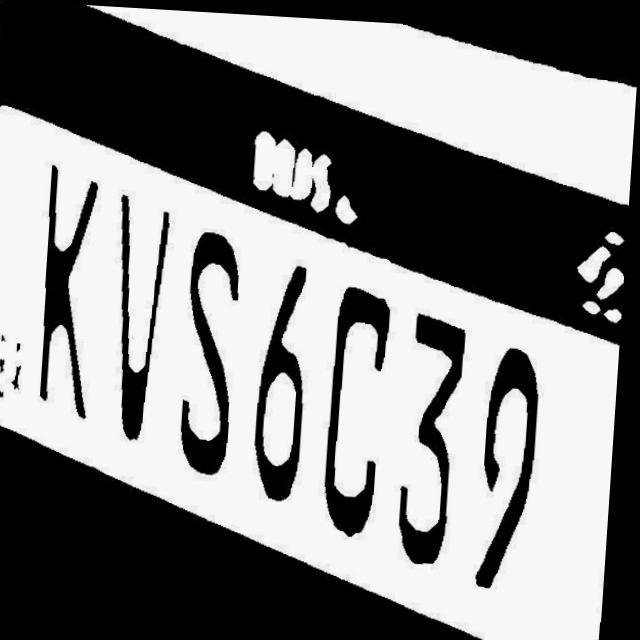3: (390, 308, 482, 561)
6: (244, 241, 334, 510)
9: (469, 336, 554, 585)
c: (320, 280, 411, 540)
k: (31, 156, 115, 423)
s: (172, 224, 258, 476)
v: (103, 188, 184, 443)
